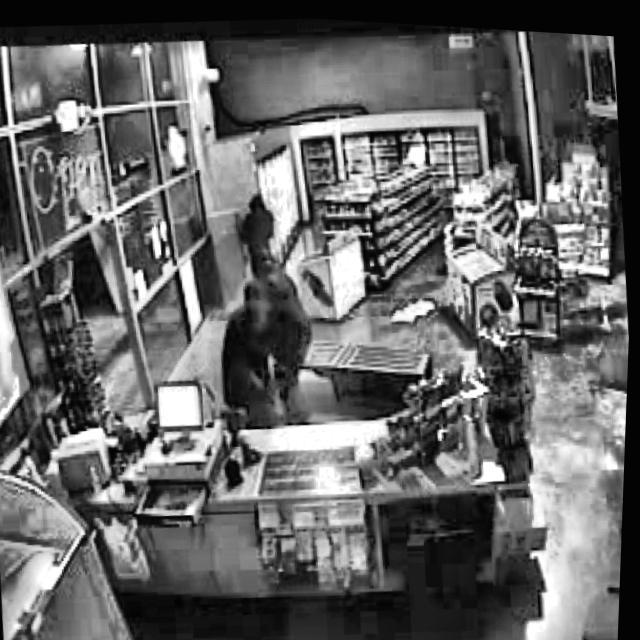burglary: (200, 179, 333, 429)
